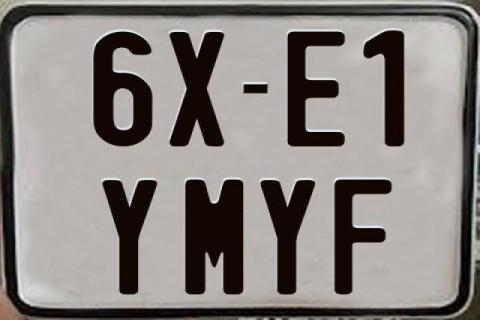0: (93, 31, 158, 149), (362, 29, 408, 145)
E: (287, 29, 350, 147)
F: (334, 178, 398, 294)
M: (185, 178, 250, 294)
X: (169, 30, 226, 146)
Y: (102, 180, 158, 296), (258, 180, 314, 295)
